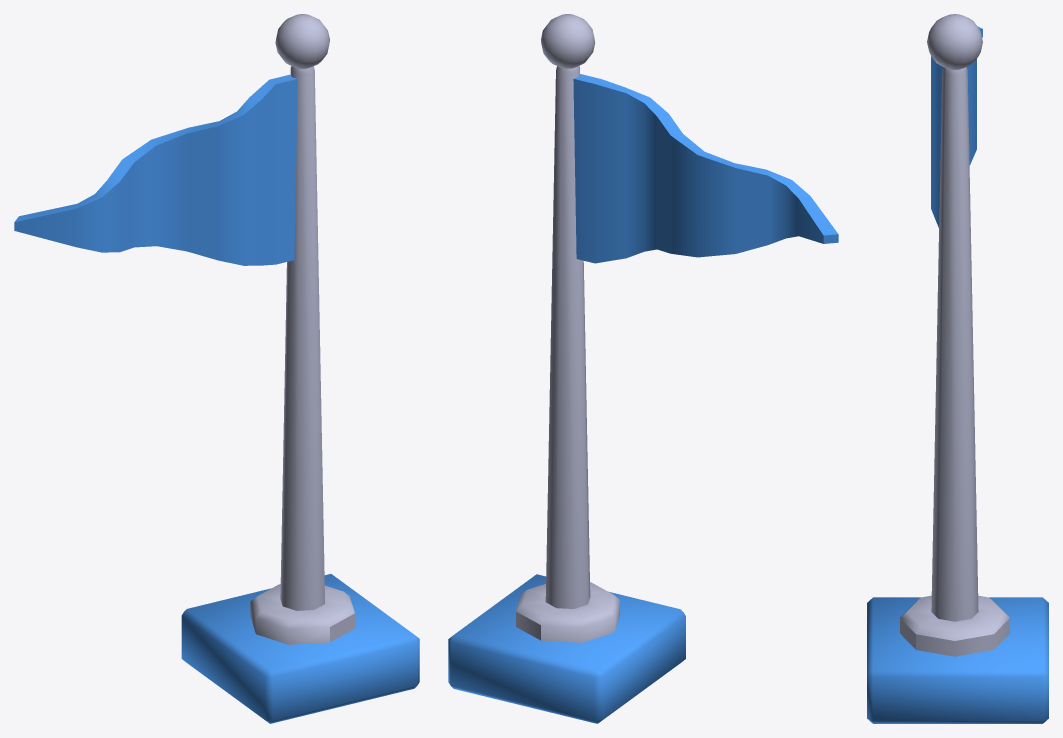
Rendered from Flag.fbx.
The picture shows the model from 3 angles, left to right: view 1: azimuth 30°, elevation 25°; view 2: azimuth 150°, elevation 25°; view 3: azimuth 270°, elevation 25°; orthographic projection. The views are drawn at different scales.
Parts seen in each view (by area): view 1: Flag; view 2: Flag; view 3: Flag.
Part boxes in pixels (left/top/right/bottom): Flag: left=14, top=14, right=419, bottom=723; Flag: left=448, top=14, right=838, bottom=723; Flag: left=867, top=14, right=1048, bottom=723.
Bounding box in the file's own units: 237 × 420 × 103.
